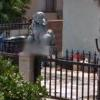Statue: (19, 5, 63, 60)
